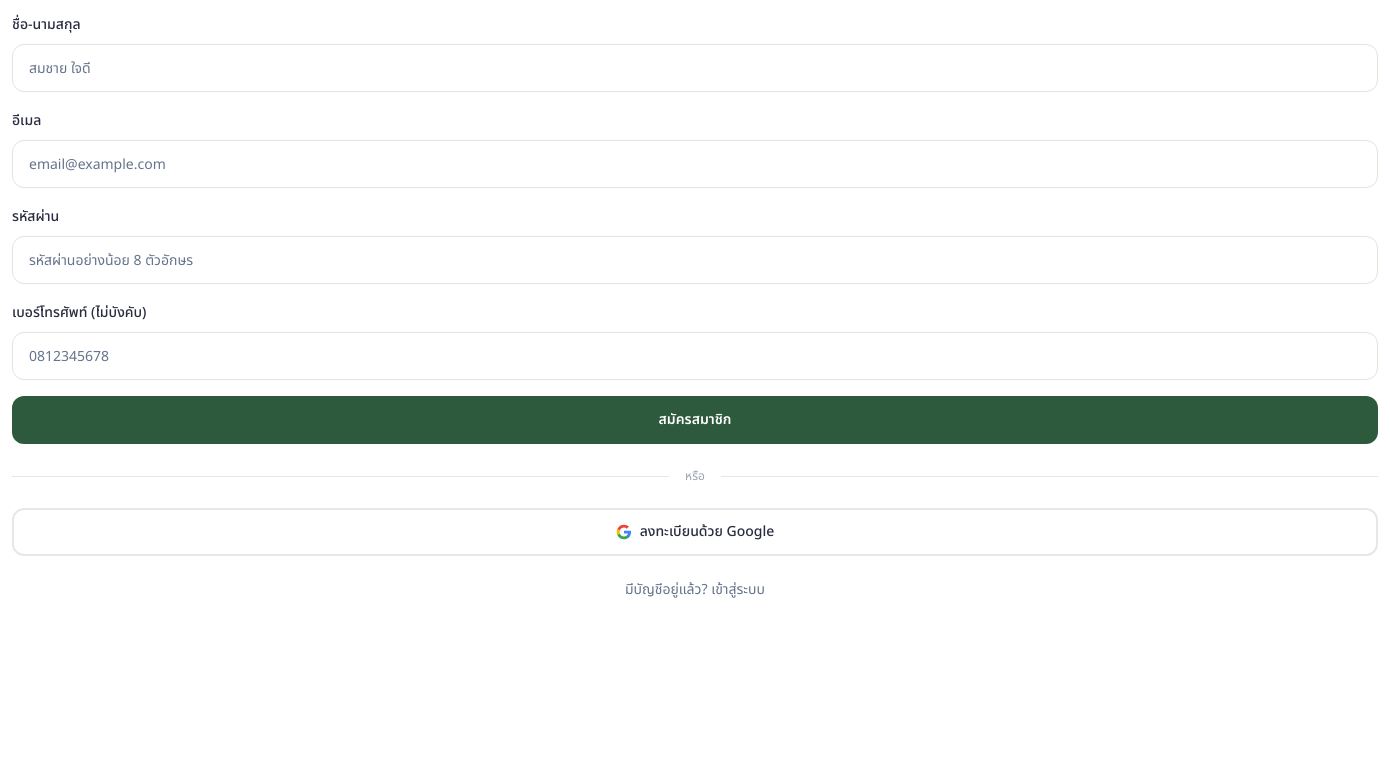
SignupForm › Validation › shows validation error for short name
The image size is (1390, 780).
Type "A" into the field labelled "ชื่อ-นามสกุล" at (695, 68), box [12, 44, 1378, 92]
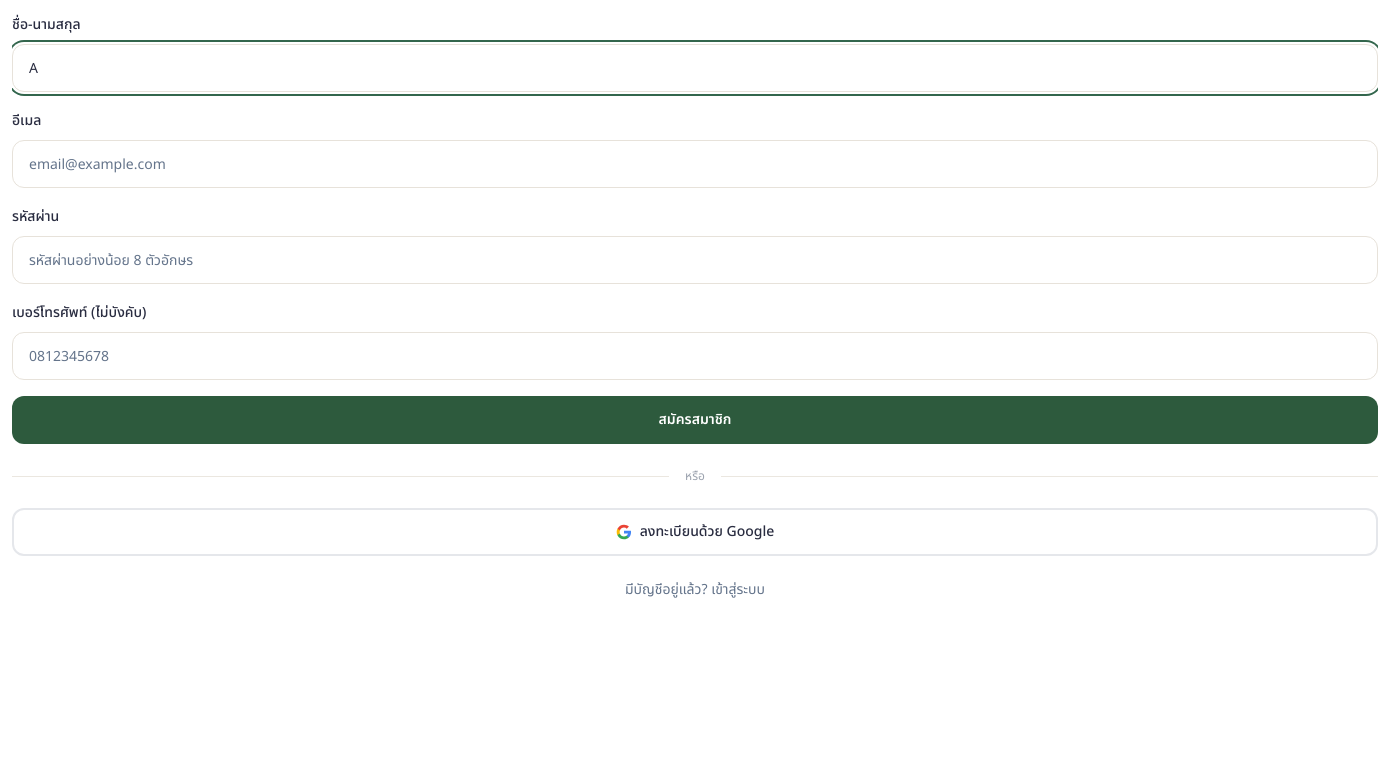
Click the button "สมัครสมาชิก" at (695, 420), box [12, 396, 1378, 444]
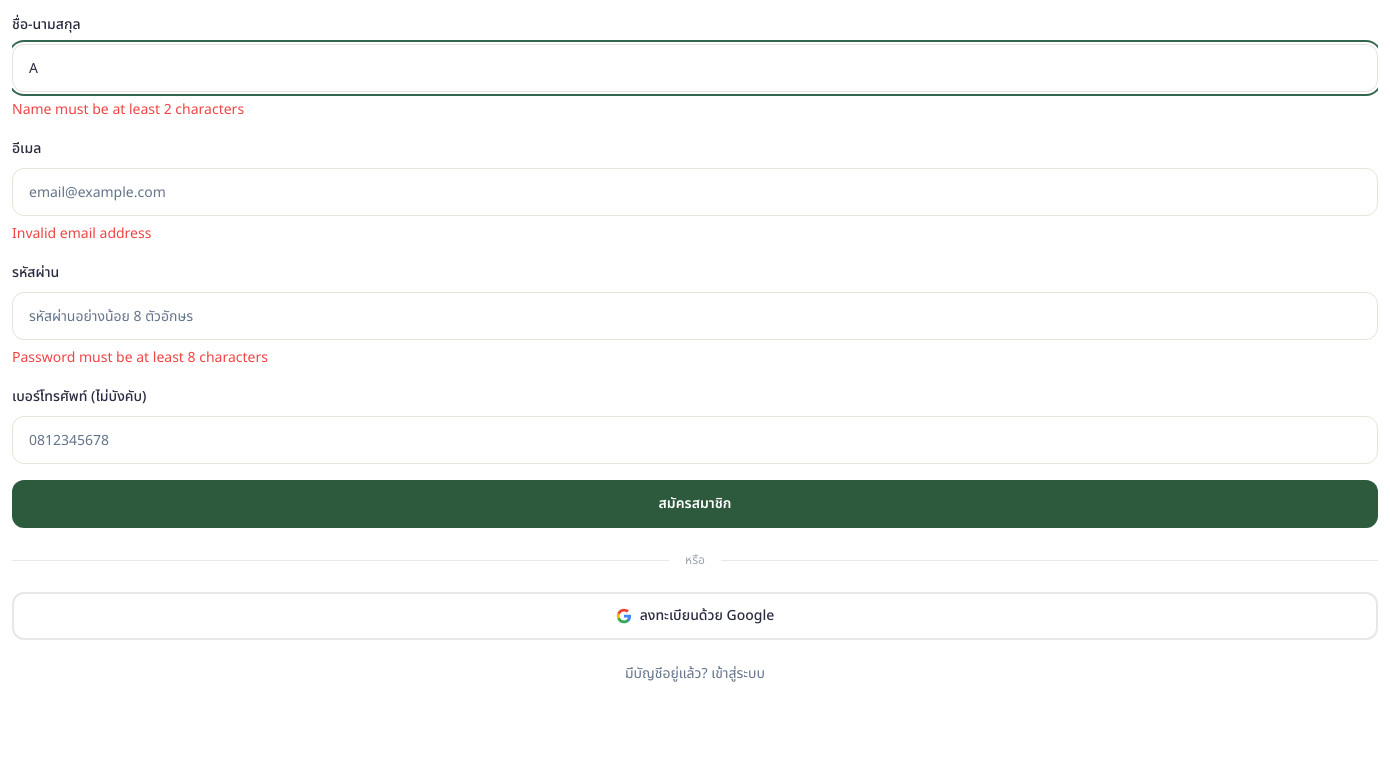
expect the text "Name must be at least 2 characters" is shown: met, box [12, 99, 244, 120]
